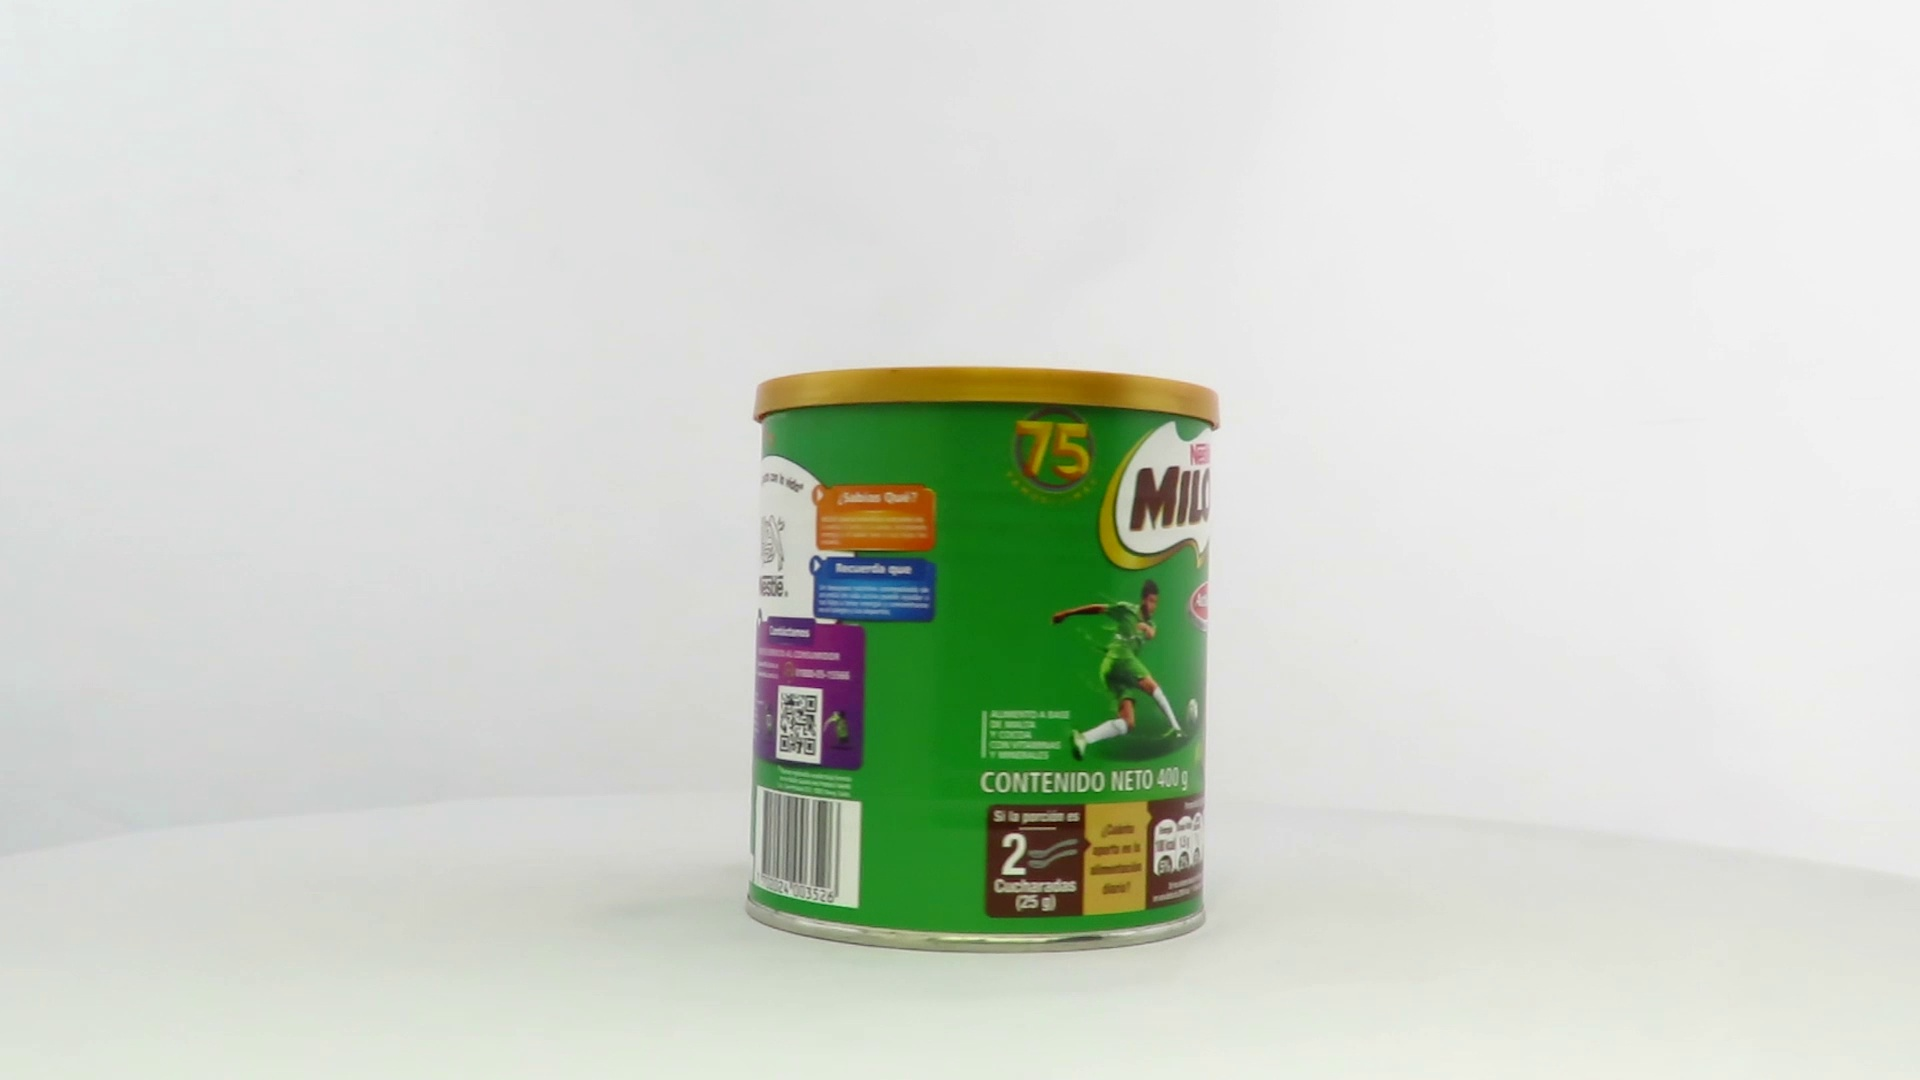COL0170203LAT40000: (740, 361, 1226, 960)
